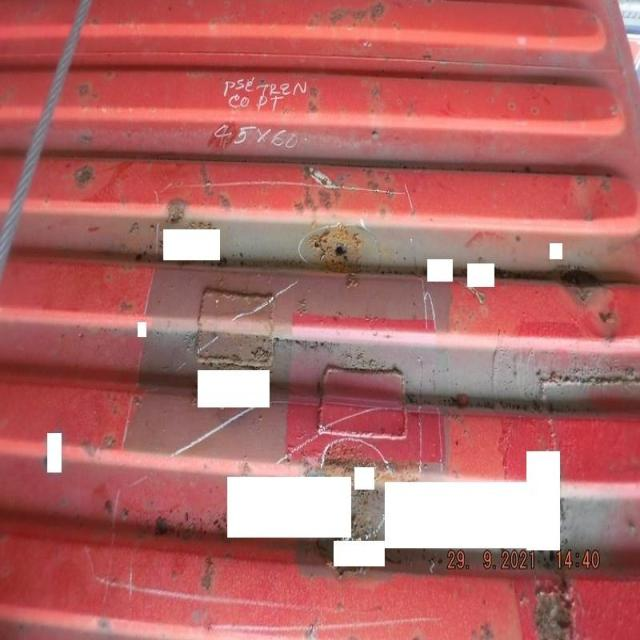rust: (320, 226, 365, 274), (535, 593, 573, 640), (563, 265, 601, 303)
